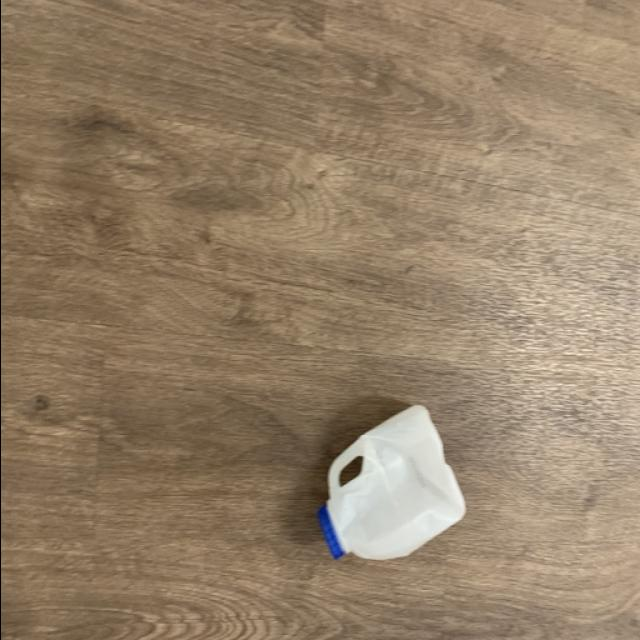HDPEM: (312, 397, 468, 568)
